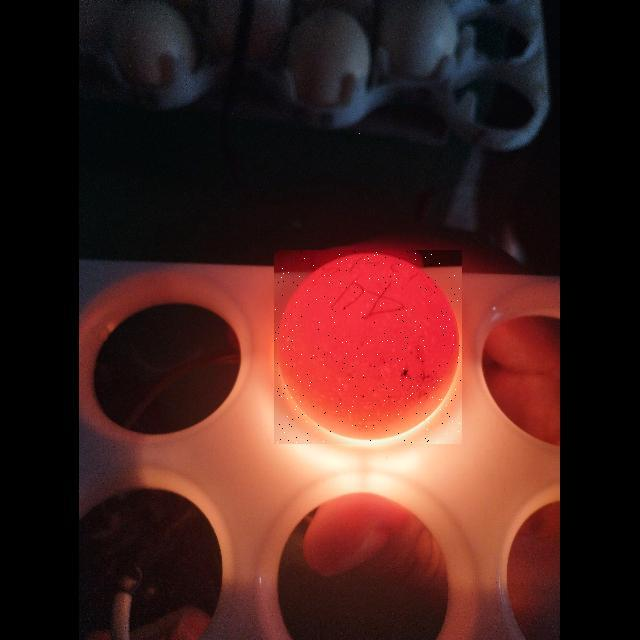Infertile: (274, 250, 462, 444)
